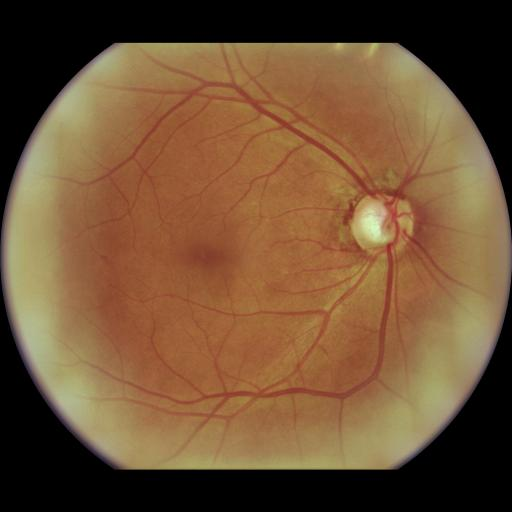Optic Cup: (361, 208, 389, 243)
Optic Disc: (351, 192, 414, 257)
